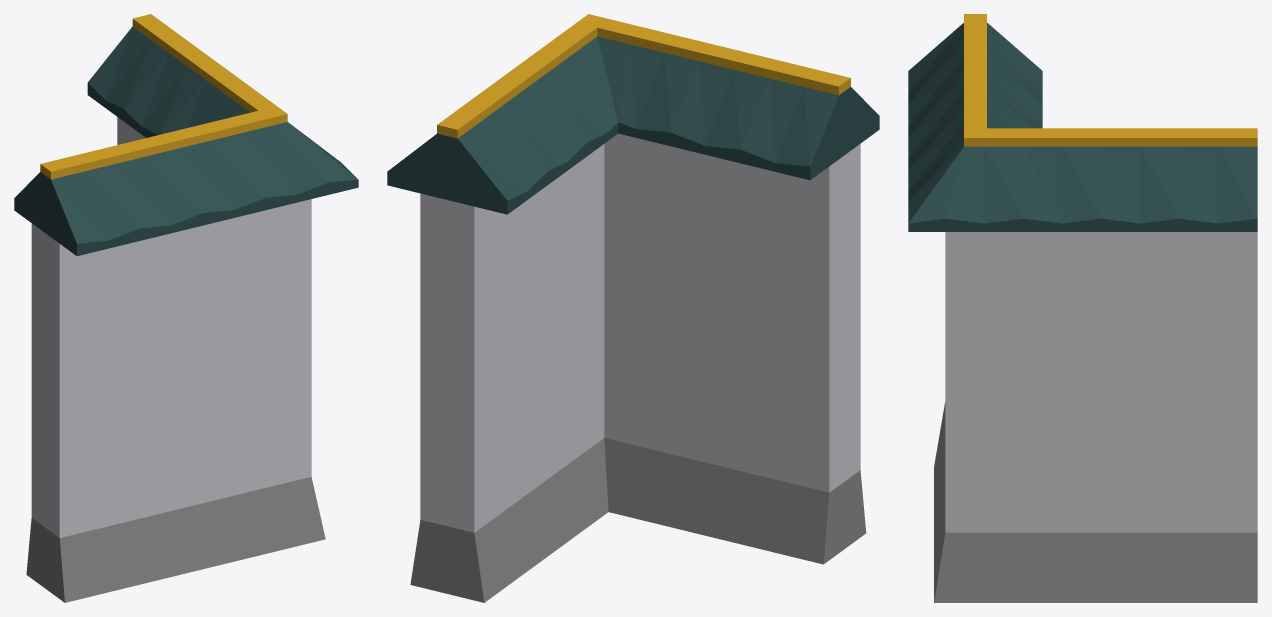
The model's file is Asian_Prop_Building_Fence_Wall_Simple_Corner_04.FBX.
The picture shows the model from 3 angles, left to right: view 1: azimuth 30°, elevation 25°; view 2: azimuth 150°, elevation 25°; view 3: azimuth 270°, elevation 25°; orthographic projection. The views are drawn at different scales.
Visible parts, largest first — view 1: Asian_Prop_Building_Fence_Wall_Simple_Corner_04; view 2: Asian_Prop_Building_Fence_Wall_Simple_Corner_04; view 3: Asian_Prop_Building_Fence_Wall_Simple_Corner_04.
Part boxes in pixels (<box>): Asian_Prop_Building_Fence_Wall_Simple_Corner_04: <box>14,14,358,602</box>; Asian_Prop_Building_Fence_Wall_Simple_Corner_04: <box>387,14,879,602</box>; Asian_Prop_Building_Fence_Wall_Simple_Corner_04: <box>908,14,1257,602</box>.
Size of the model in its own units: 2890 by 4128 by 2890.
